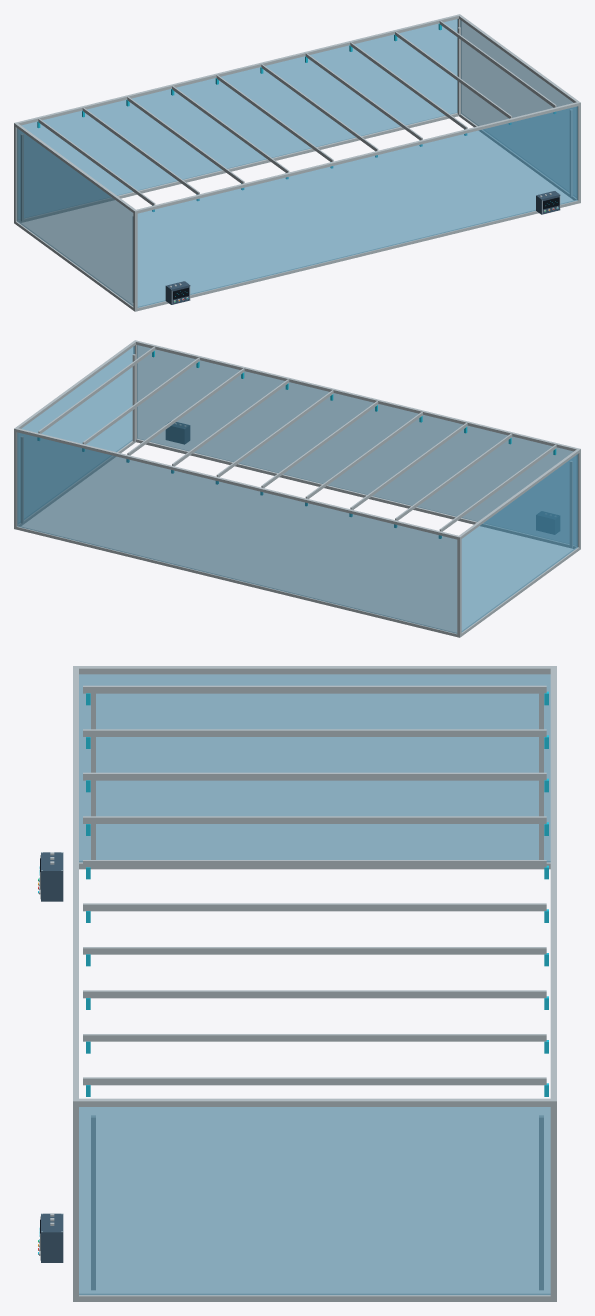
Rendered from 01_L78_TransparentMultichamberSafetyEnclosure.fbx.
3 renders of one model, top to bottom at view 1: azimuth 30°, elevation 25°; view 2: azimuth 150°, elevation 25°; view 3: azimuth 270°, elevation 25°, orthographic. The views are drawn at different scales.
Visible parts, largest first — view 1: TransparentMultichamberSafetyEnclosure; view 2: TransparentMultichamberSafetyEnclosure; view 3: TransparentMultichamberSafetyEnclosure.
Boxes of the visible parts, <box> form: TransparentMultichamberSafetyEnclosure: <box>14,14,580,311</box>; TransparentMultichamberSafetyEnclosure: <box>14,340,580,637</box>; TransparentMultichamberSafetyEnclosure: <box>38,666,556,1301</box>.
Bounding box in the file's own units: 2000 × 433 × 1007.
